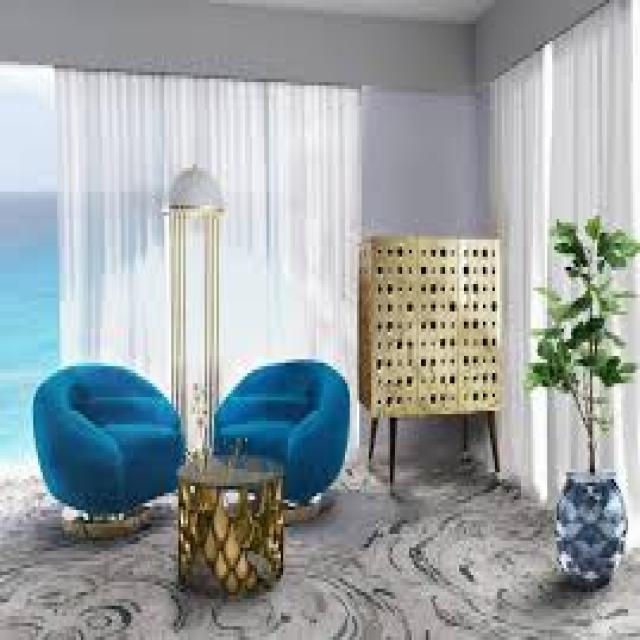Chair: (34, 342, 186, 518), (218, 346, 343, 508)
Table: (175, 454, 290, 595)
